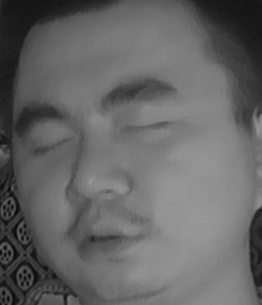blink: (26, 126, 74, 162), (120, 108, 168, 143)
mouth: (62, 209, 155, 268)
